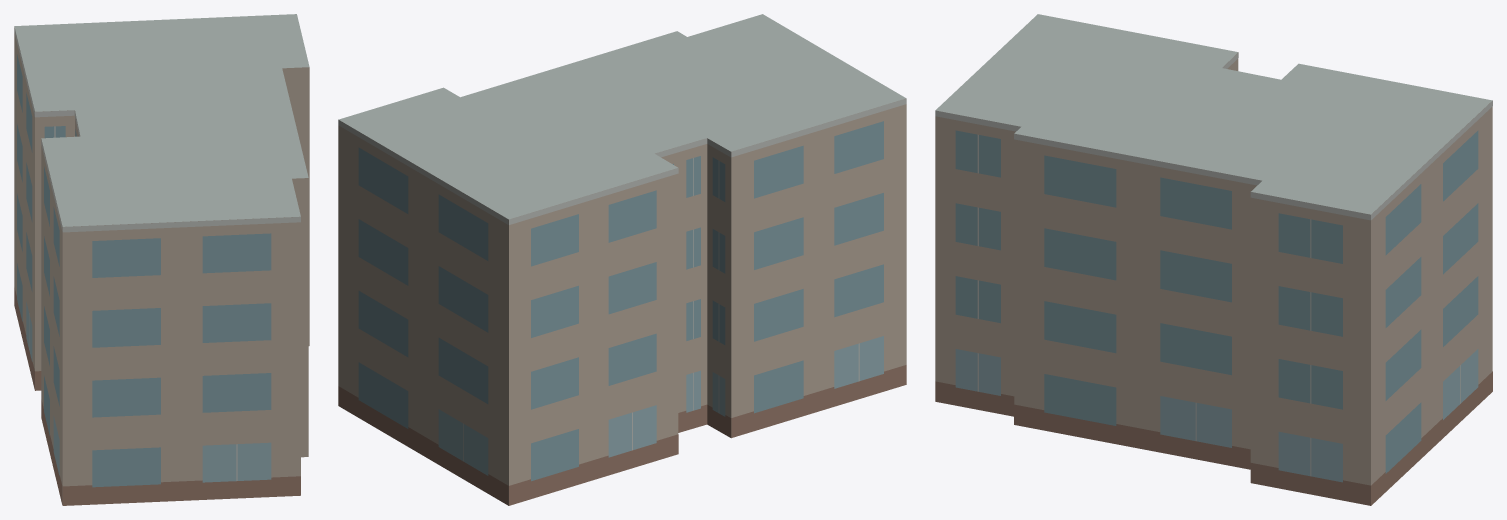
File: residential-f8143225-72a8-4aa6-8952-292e0eba6f24.glb
The picture shows the model from 3 angles, left to right: view 1: azimuth 30°, elevation 25°; view 2: azimuth 150°, elevation 25°; view 3: azimuth 270°, elevation 25°; orthographic projection. The views are drawn at different scales.
Visible parts, largest first — view 1: residential-f8143225-72a8-4aa6-8952-292e0eba6f24.tmp; view 2: residential-f8143225-72a8-4aa6-8952-292e0eba6f24.tmp; view 3: residential-f8143225-72a8-4aa6-8952-292e0eba6f24.tmp.
Part boxes in pixels (left/top/right/bottom): residential-f8143225-72a8-4aa6-8952-292e0eba6f24.tmp: left=14, top=14, right=309, bottom=505; residential-f8143225-72a8-4aa6-8952-292e0eba6f24.tmp: left=338, top=14, right=906, bottom=505; residential-f8143225-72a8-4aa6-8952-292e0eba6f24.tmp: left=935, top=14, right=1492, bottom=505.
Size of the model in its own units: 18.04 by 12.2 by 21.17.
